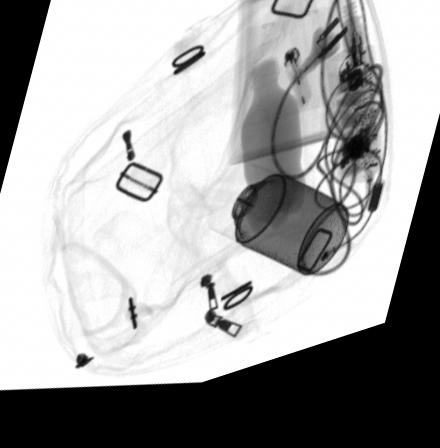Lighter: (279, 59, 317, 128)
Sprayer: (206, 173, 351, 293)
